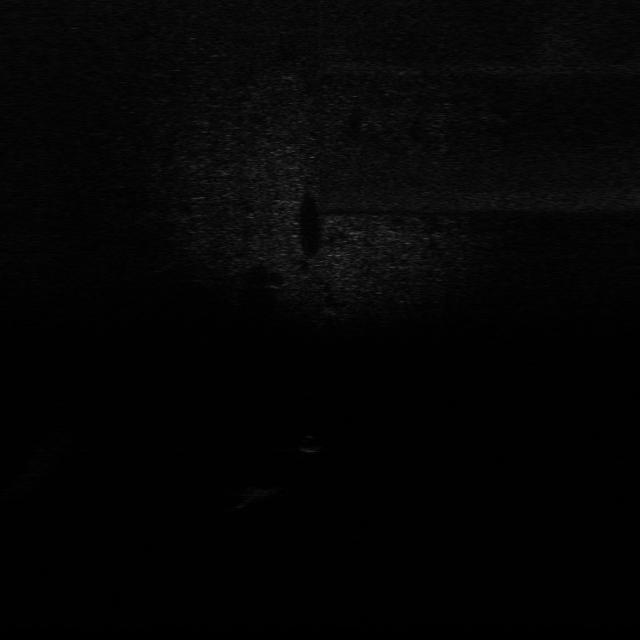ball: (290, 433, 332, 458)
square cage: (238, 482, 291, 505)
